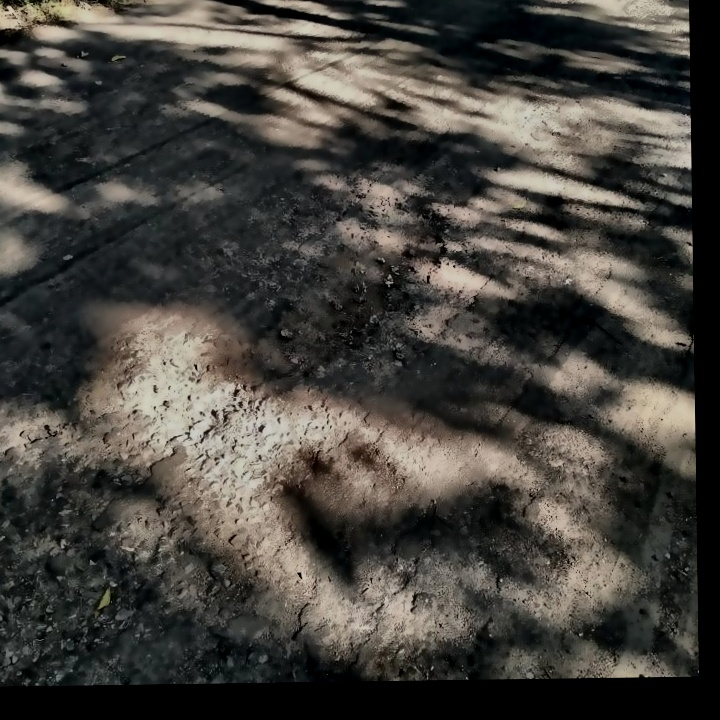pothole: (229, 195, 453, 401)
